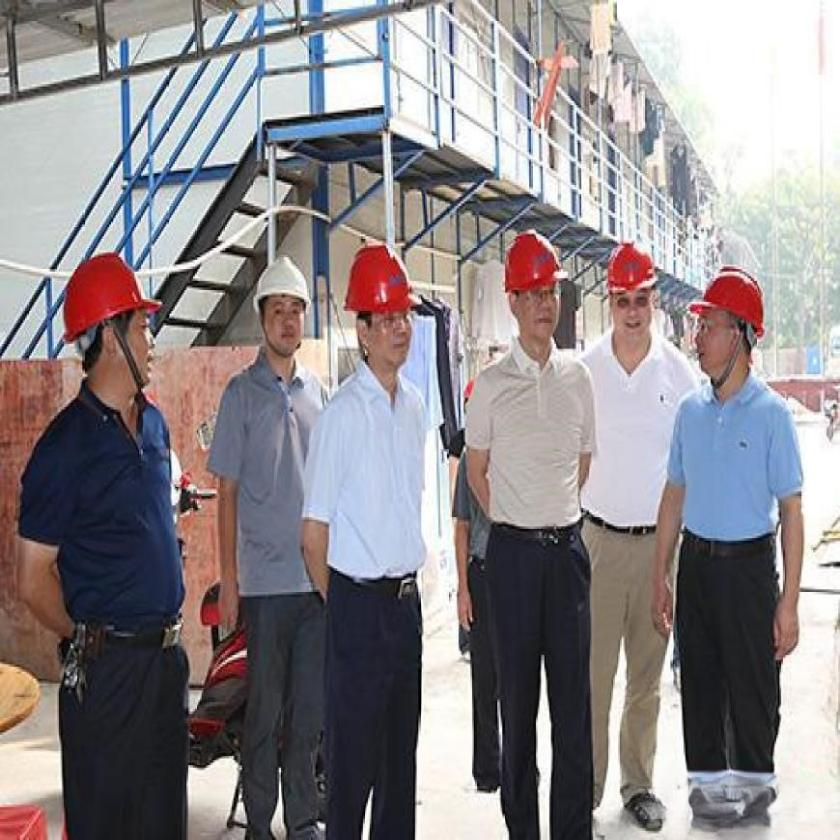Con_casco: (67, 246, 167, 400), (691, 253, 772, 406), (343, 240, 423, 376), (498, 216, 569, 352), (599, 225, 662, 357), (243, 254, 315, 362)
